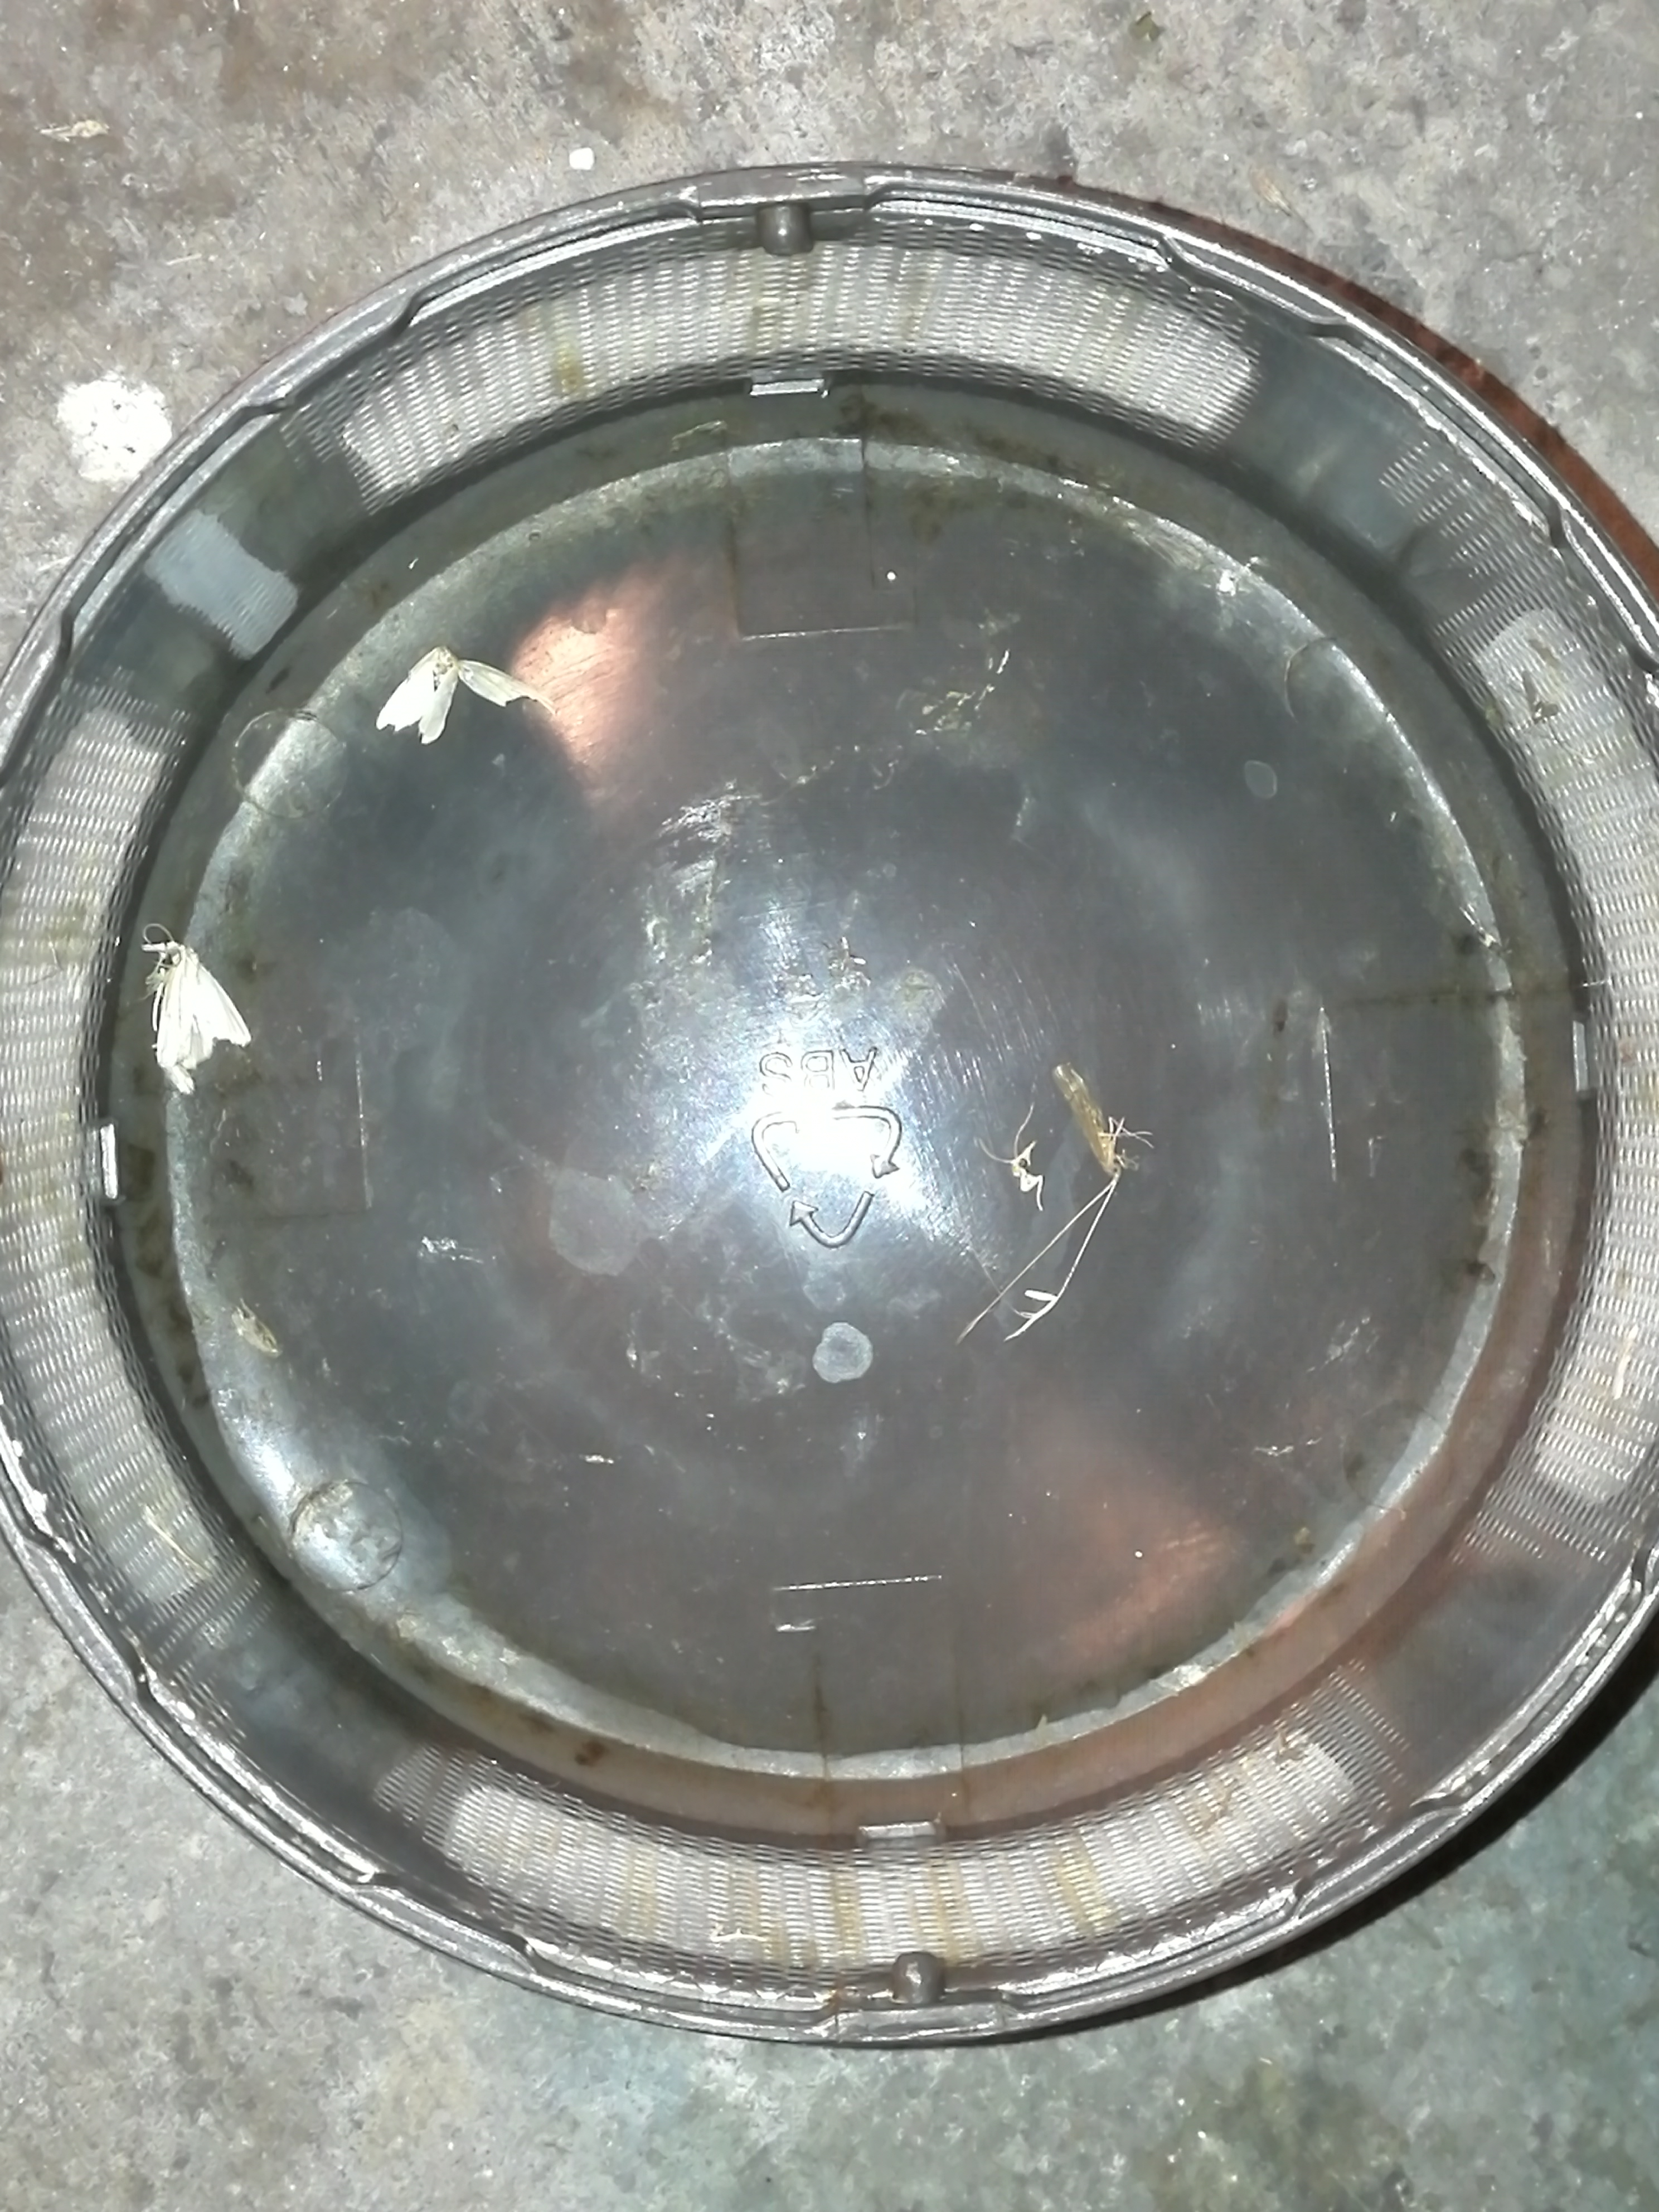mosquito: (1054, 1062, 1122, 1179)
moth: (143, 941, 251, 1094), (380, 648, 458, 742)
